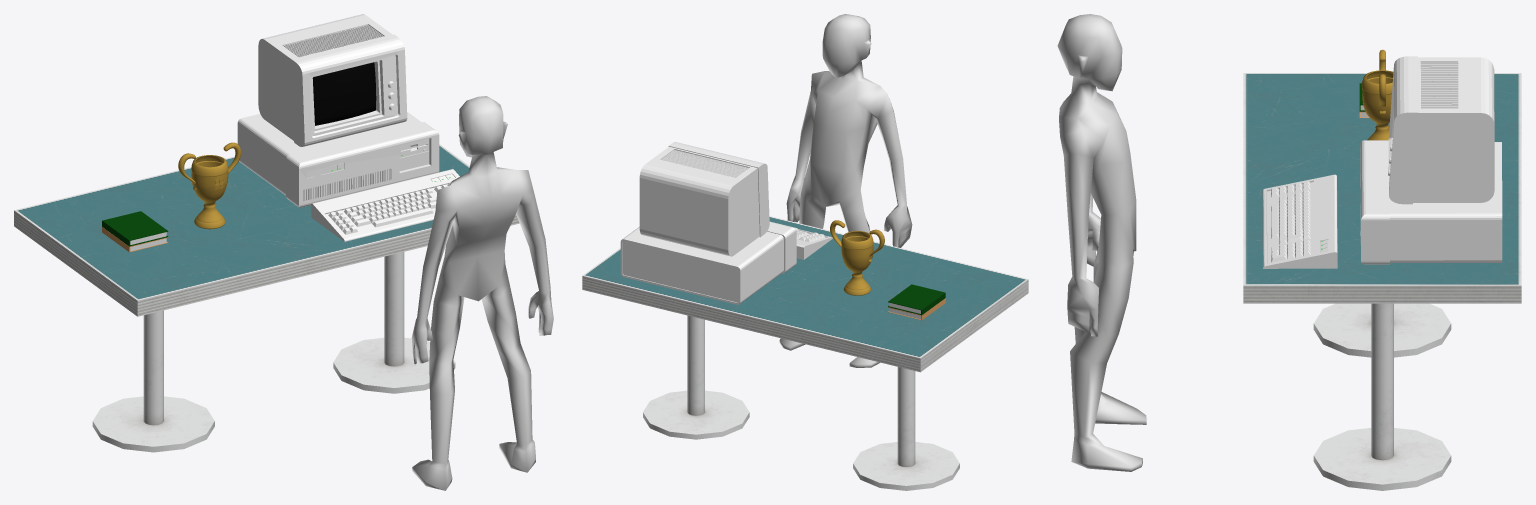
3 renders of one model, left to right at view 1: azimuth 30°, elevation 25°; view 2: azimuth 150°, elevation 25°; view 3: azimuth 270°, elevation 25°, orthographic. The views are drawn at different scales.
Visible parts, largest first — view 1: Box022_01 - Default_0, Cube_Material_0, monitor, cpu, kewboard, Cube, nurbsToPoly11, vent monitor, Book_0.002, flopy; view 2: Box022_01 - Default_0, Cube_Material_0, monitor, cpu, nurbsToPoly11, vent monitor, Book_0.002, kewboard; view 3: Box022_01 - Default_0, Cube_Material_0, monitor, cpu, kewboard, vent monitor, nurbsToPoly11.
Part boxes in pixels (<box>): Box022_01 - Default_0: <box>14,144,519,452</box>; Cube_Material_0: <box>411,96,553,490</box>; monitor: <box>258,14,407,146</box>; cpu: <box>237,112,439,207</box>; kewboard: <box>311,169,459,241</box>; Cube: <box>312,62,376,125</box>; nurbsToPoly11: <box>191,155,228,229</box>; vent monitor: <box>283,25,383,57</box>; Book_0.002: <box>102,211,168,246</box>; flopy: <box>399,138,429,171</box>; Box022_01 - Default_0: <box>582,216,1028,490</box>; Cube_Material_0: <box>779,14,912,367</box>; monitor: <box>639,142,769,256</box>; cpu: <box>620,222,796,304</box>; nurbsToPoly11: <box>841,231,873,295</box>; vent monitor: <box>661,150,748,177</box>; Book_0.002: <box>888,284,945,315</box>; kewboard: <box>796,229,832,259</box>; Box022_01 - Default_0: <box>1243,73,1521,490</box>; Cube_Material_0: <box>1057,14,1146,471</box>; monitor: <box>1388,56,1494,204</box>; cpu: <box>1360,140,1502,264</box>; kewboard: <box>1262,174,1337,268</box>; vent monitor: <box>1420,62,1458,108</box>; nurbsToPoly11: <box>1361,70,1393,140</box>.
Size of the model in its own units: 199 by 185 by 183.
Materials: 18 (1 with a texture image).
